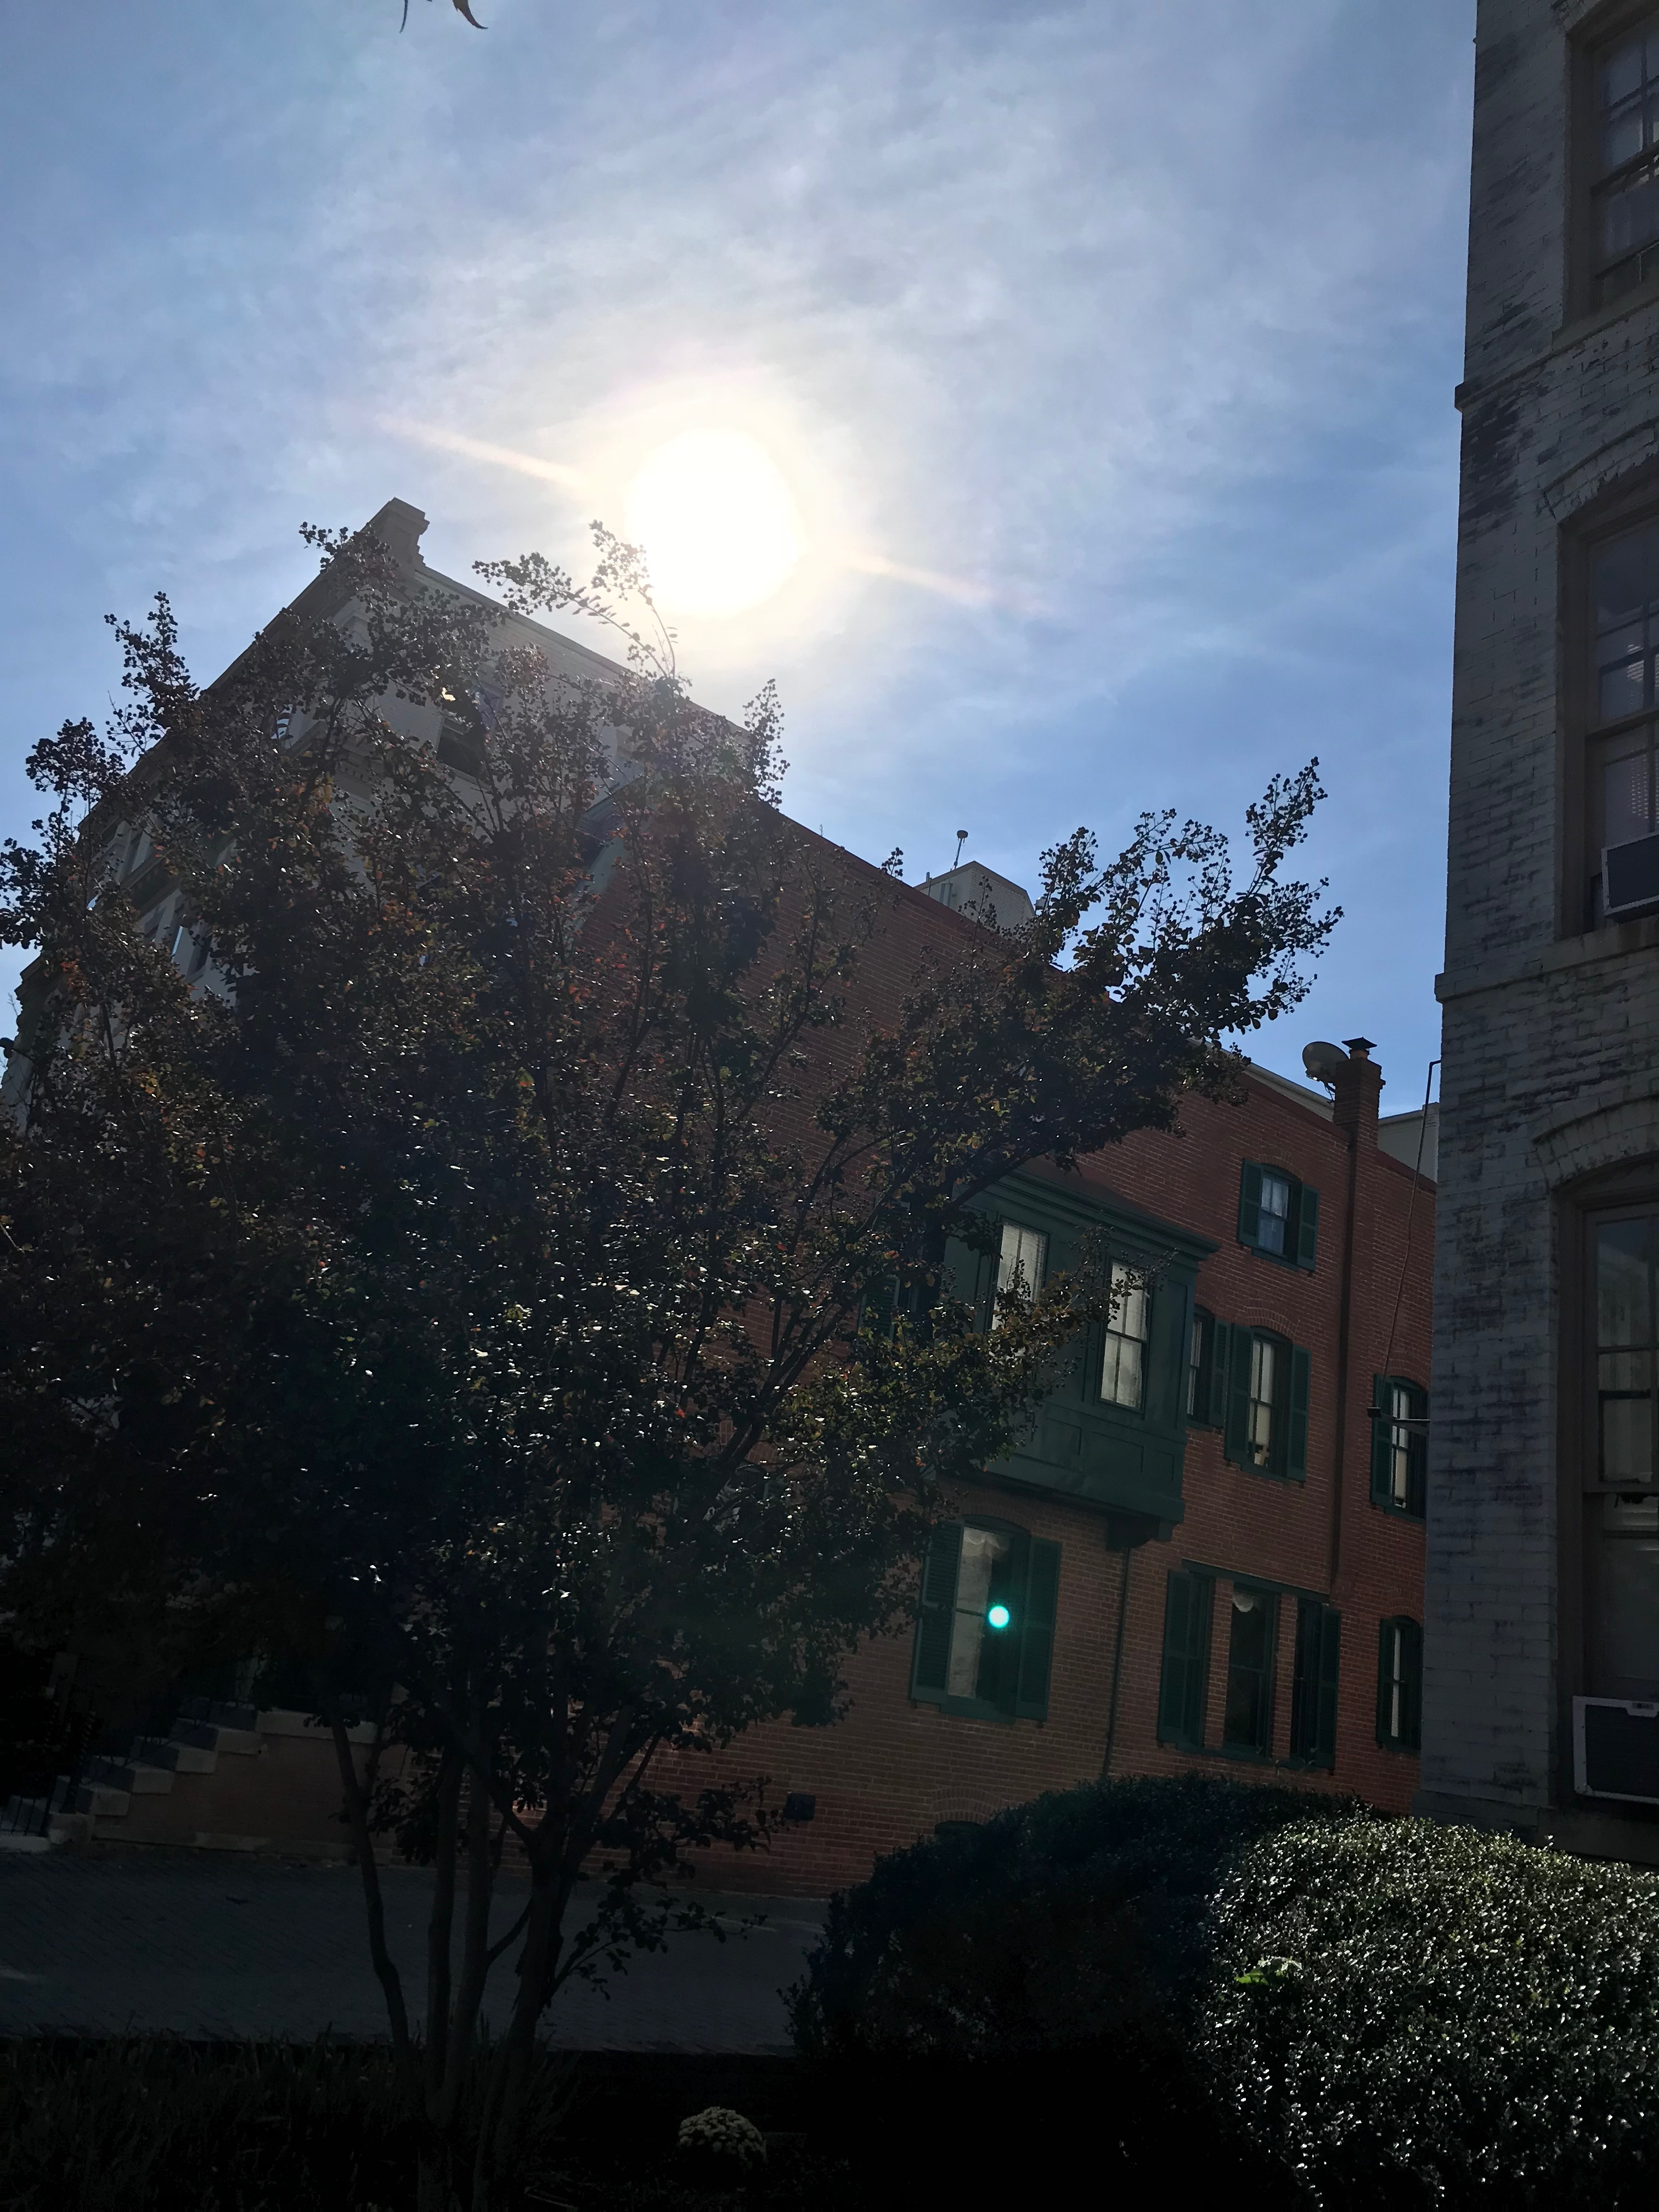flare: (985, 1602, 1012, 1632)
